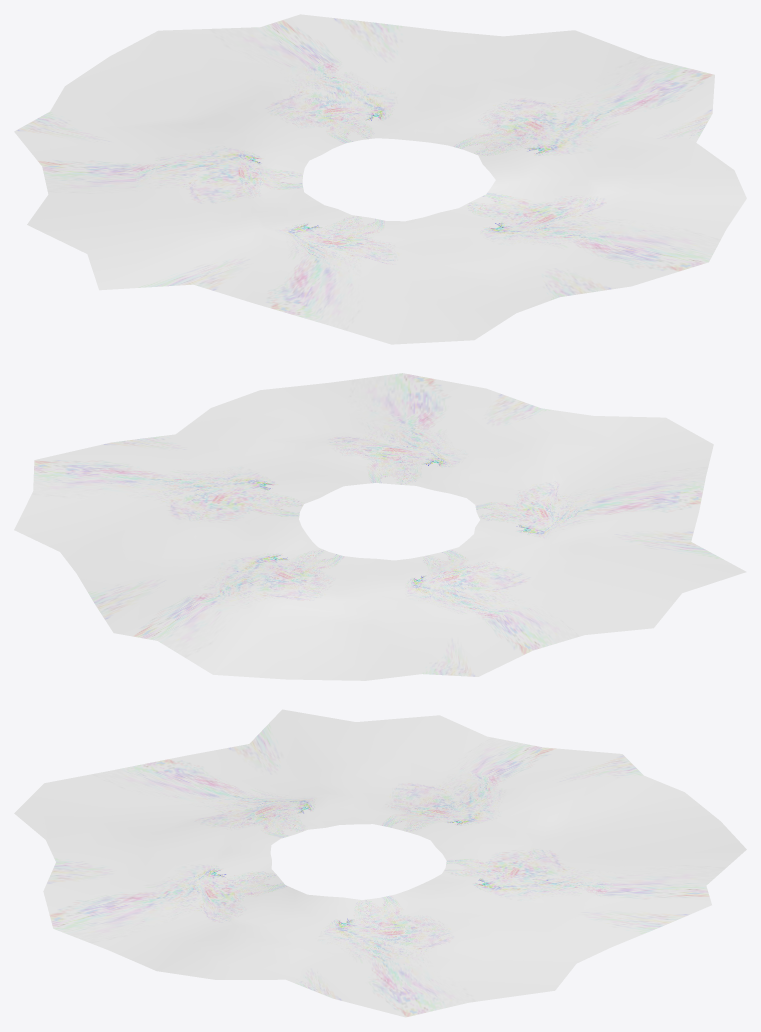
Rendered from effect_role@guaiwu_yujianjinglei_02.fbx.
3 views of the same model, one above another, from view 1: azimuth 30°, elevation 25°; view 2: azimuth 150°, elevation 25°; view 3: azimuth 270°, elevation 25° (orthographic). The views are drawn at different scales.
Parts seen in each view (by area): view 1: E_xuanwo_03; view 2: E_xuanwo_03; view 3: E_xuanwo_03.
Boxes of the visible parts, x1,y1,x2,y2 form: E_xuanwo_03: (14,14,746,344); E_xuanwo_03: (14,373,746,680); E_xuanwo_03: (14,709,746,1017).
Bounding box in the file's own units: 7.59 × 0.000145 × 7.63.
